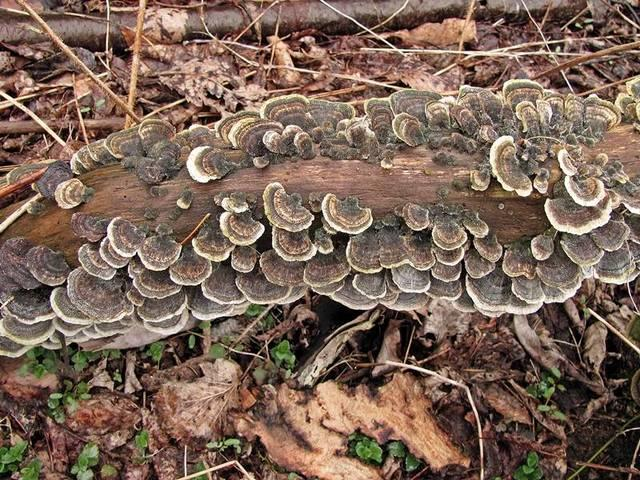poisonous_mushroom: (1, 76, 638, 360)
